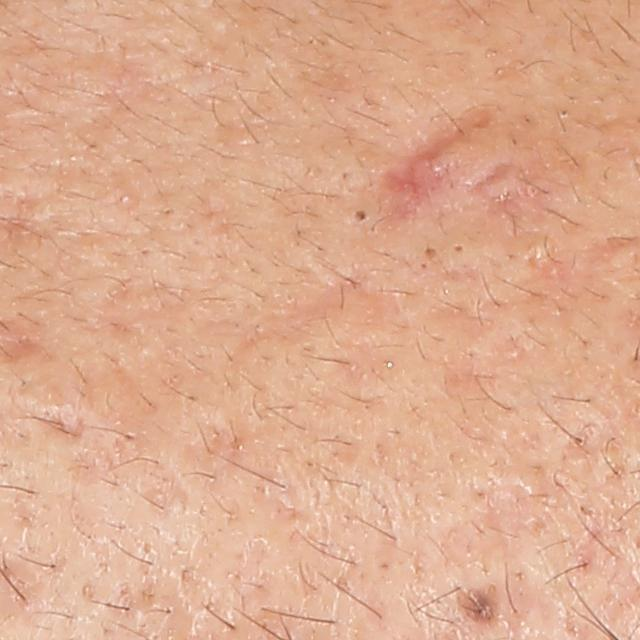atrophic_scar: (237, 269, 404, 365), (376, 106, 496, 224), (464, 165, 557, 229), (29, 397, 88, 453)
comedo: (344, 199, 374, 235)
nevus: (454, 581, 501, 629)
